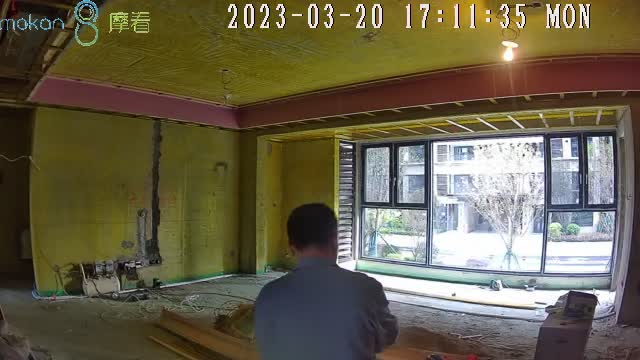people: (253, 203, 399, 360)
window: (359, 131, 616, 276)
